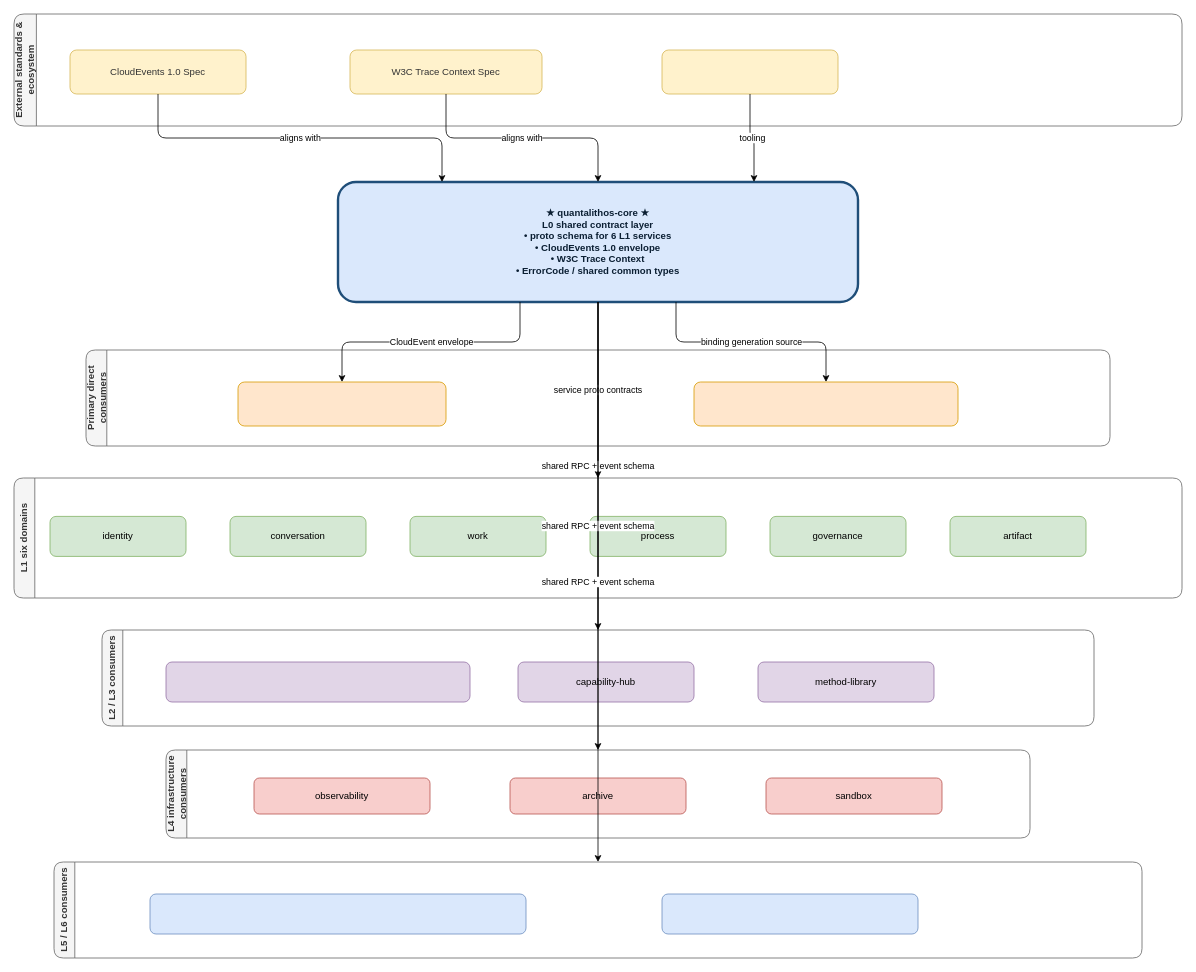
The diagram is 1196 pixels wide and 972 high, and some of its shapes have lost their labels. Each missing label, with the centre of its shape:
"bridges / marketplace" goes at pixel 789 913.
"buf.build ecosystem" goes at pixel 749 71.
"chat / console / runner / sync / website" goes at pixel 337 913.
"member runtime / member-service / tools" goes at pixel 317 681.
"quantalithos-bus Consumes CloudEvent envelope" goes at pixel 341 403.
"quantalithos-sdk Generates Rust / Python / TypeScript bindings" goes at pixel 825 403.
